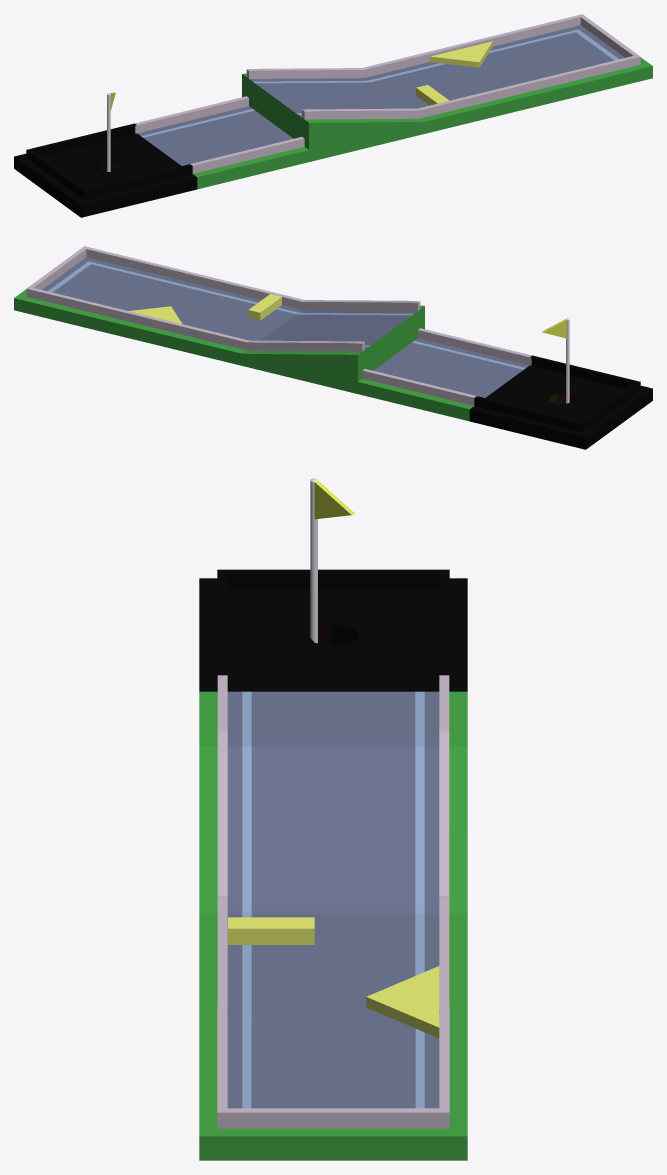
The model's file is Pista 1.fbx.
3 renders of one model, top to bottom at view 1: azimuth 30°, elevation 25°; view 2: azimuth 150°, elevation 25°; view 3: azimuth 270°, elevation 25°, orthographic. The views are drawn at different scales.
Visible parts, largest first — view 1: Box010, Box024.001, Box026, Box013, Box013.001, Object001, Box021, Cylinder002; view 2: Box010, Box024.001, Box026, Box013, Box013.001, Cylinder002, Box021, Object001; view 3: Box010, Box026, Box024.001, Box013.001, Box013, Object001, Box021, Cylinder002.
Boxes of the visible parts, left/top/right/bottom form: Box010: left=242, top=68, right=424, bottom=161; Box024.001: left=14, top=123, right=197, bottom=217; Box026: left=474, top=14, right=652, bottom=106; Box013: left=135, top=96, right=311, bottom=189; Box013.001: left=362, top=40, right=536, bottom=133; Object001: left=429, top=41, right=492, bottom=67; Box021: left=416, top=85, right=449, bottom=105; Cylinder002: left=107, top=92, right=115, bottom=171; Box010: left=242, top=300, right=424, bottom=393; Box024.001: left=469, top=355, right=652, bottom=449; Box026: left=14, top=246, right=192, bottom=338; Box013: left=355, top=328, right=531, bottom=421; Box013.001: left=130, top=272, right=304, bottom=366; Cylinder002: left=542, top=318, right=569, bottom=403; Box021: left=248, top=294, right=281, bottom=320; Object001: left=129, top=306, right=181, bottom=323; Box010: left=199, top=731, right=467, bottom=913; Box026: left=199, top=1007, right=467, bottom=1160; Box024.001: left=199, top=569, right=467, bottom=691; Box013.001: left=199, top=897, right=467, bottom=1023; Box013: left=199, top=675, right=467, bottom=746; Object001: left=366, top=966, right=439, bottom=1038; Box021: left=228, top=917, right=314, bottom=944; Cylinder002: left=310, top=478, right=354, bottom=643.
Size of the model in its own units: 249 by 44.71 by 50.54.
